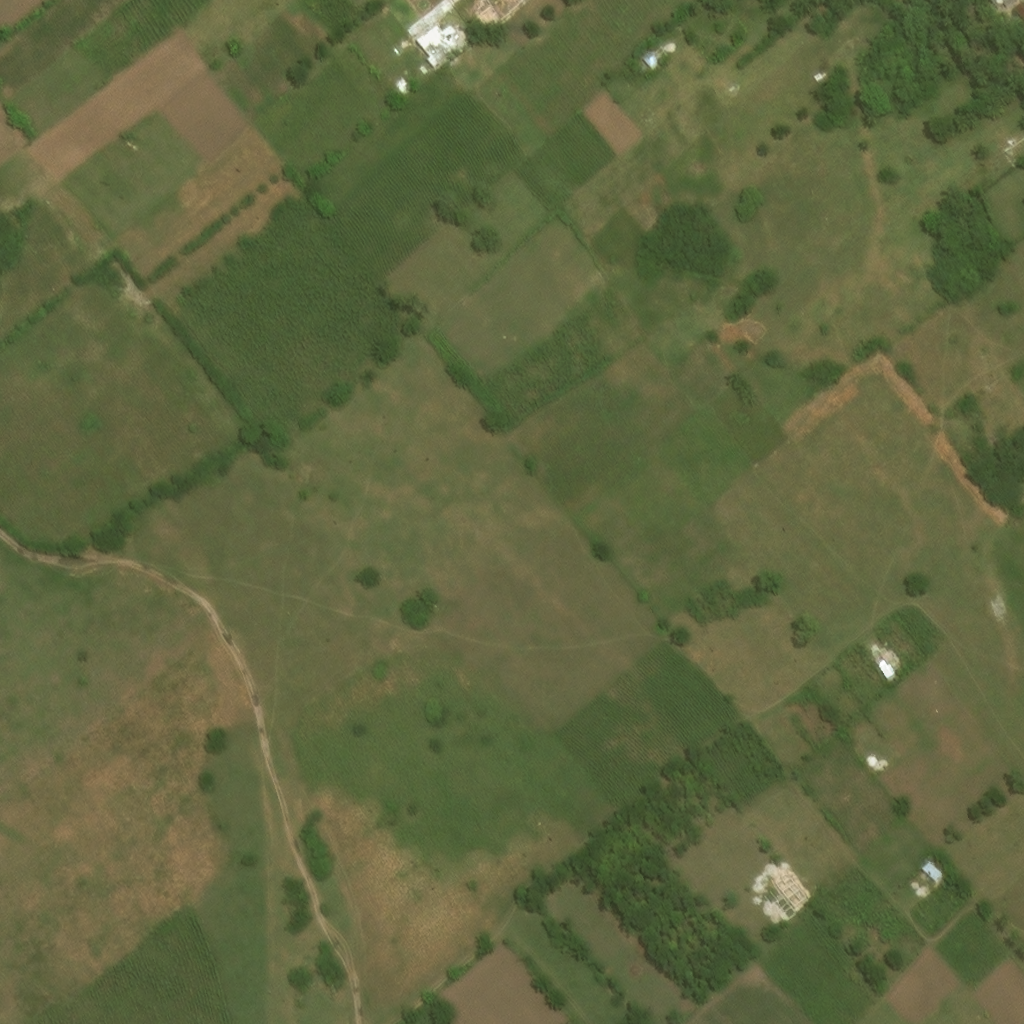no_damage: (713, 34, 732, 52), (876, 86, 887, 97), (1011, 0, 1023, 10)
